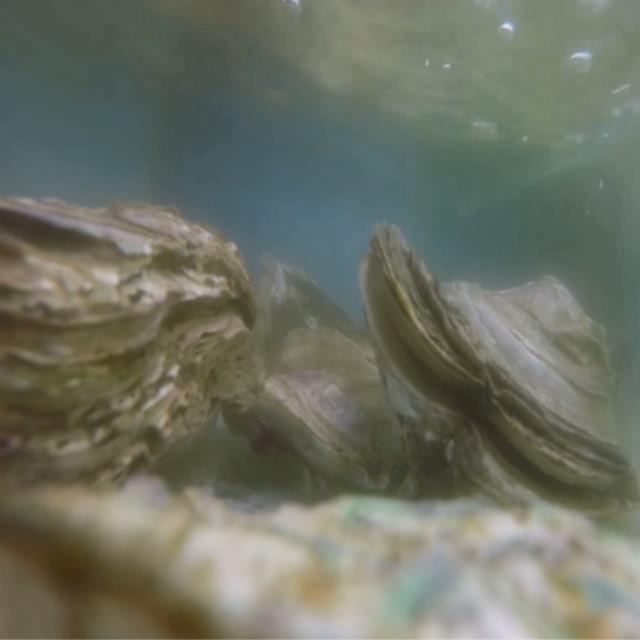Oyster-Closed: (0, 197, 259, 520), (260, 327, 423, 503)
Oyster-Indeterminate: (0, 477, 640, 640)
Oyster-Open: (358, 222, 640, 533)
